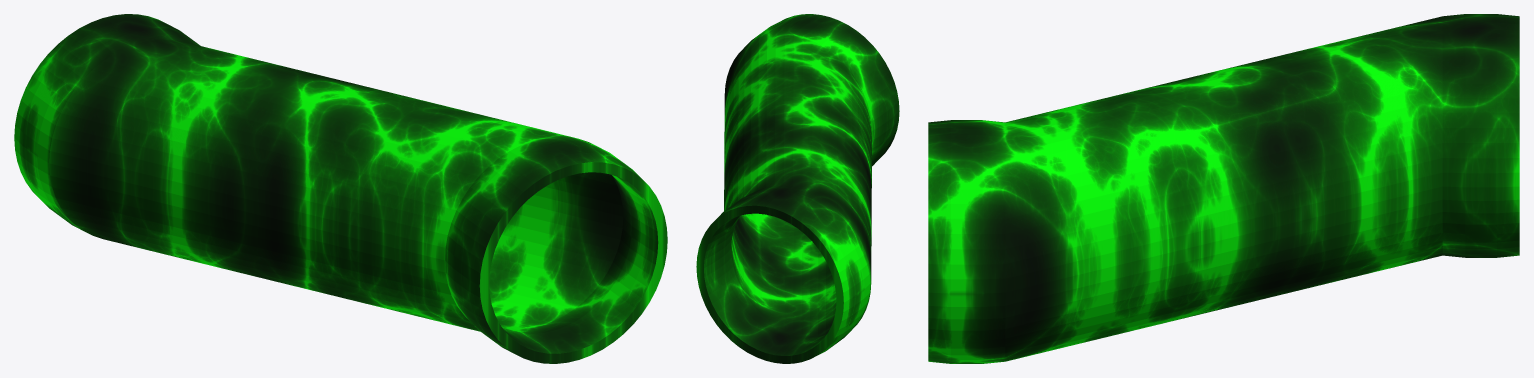
File: RunnerTunnelCorner.fbx
The picture shows the model from 3 angles, left to right: view 1: azimuth 30°, elevation 25°; view 2: azimuth 150°, elevation 25°; view 3: azimuth 270°, elevation 25°; orthographic projection. The views are drawn at different scales.
Parts seen in each view (by area): view 1: polySurface1; view 2: polySurface1; view 3: polySurface1.
Boxes of the visible parts, box(x1,y1,x2,y2) form: polySurface1: box(14, 14, 667, 363); polySurface1: box(696, 14, 899, 363); polySurface1: box(928, 14, 1519, 363).
Size of the model in its own units: 4.36 by 2.14 by 5.2.
Materials: 1 (1 with a texture image).
